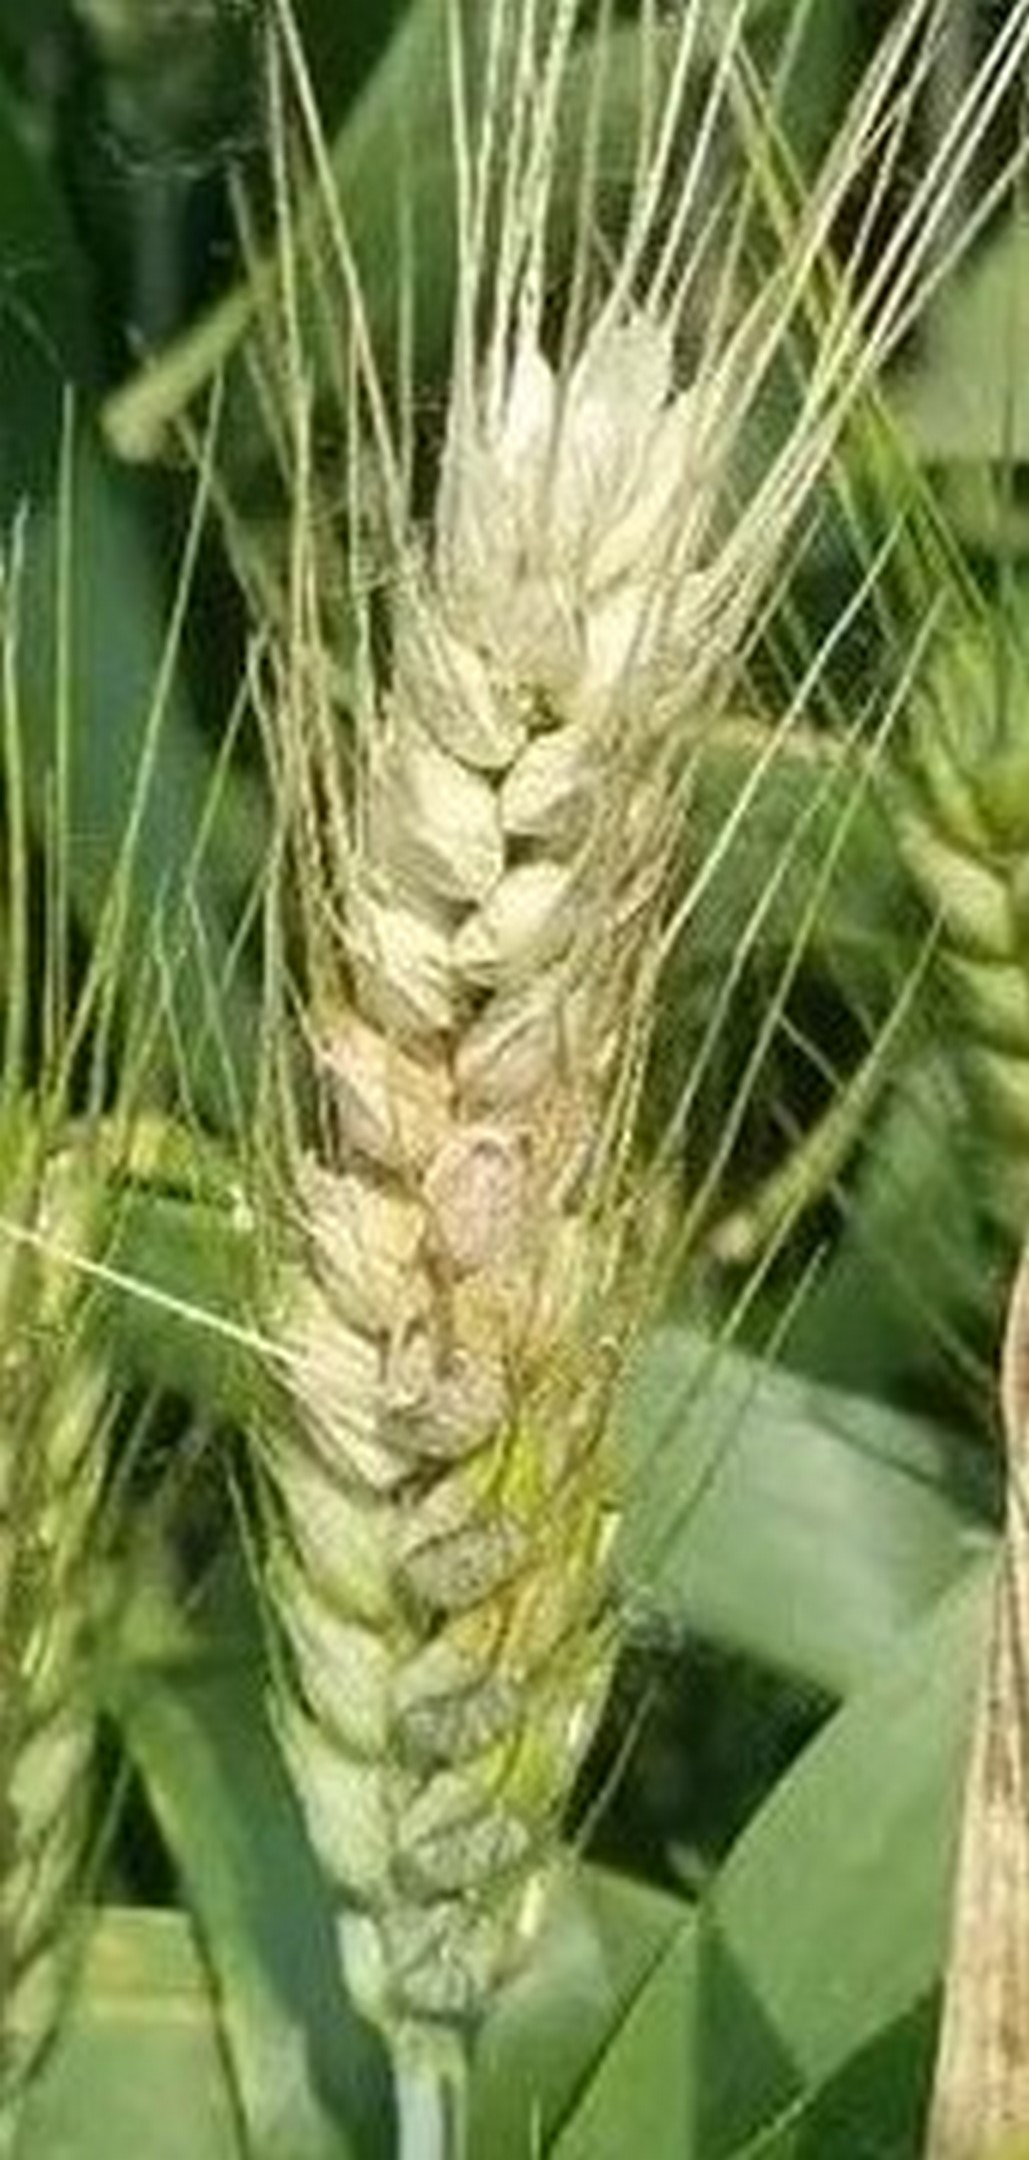Wheat scab: (242, 302, 776, 2015)
